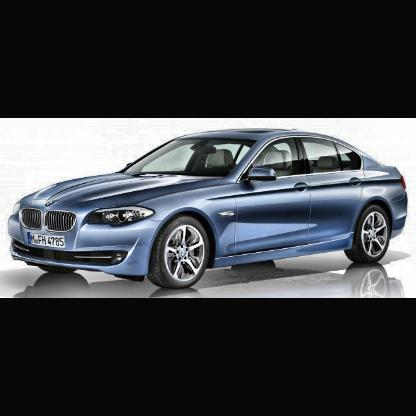BMW ActiveHybrid 5 Sedan 2012: (6, 127, 414, 296)
